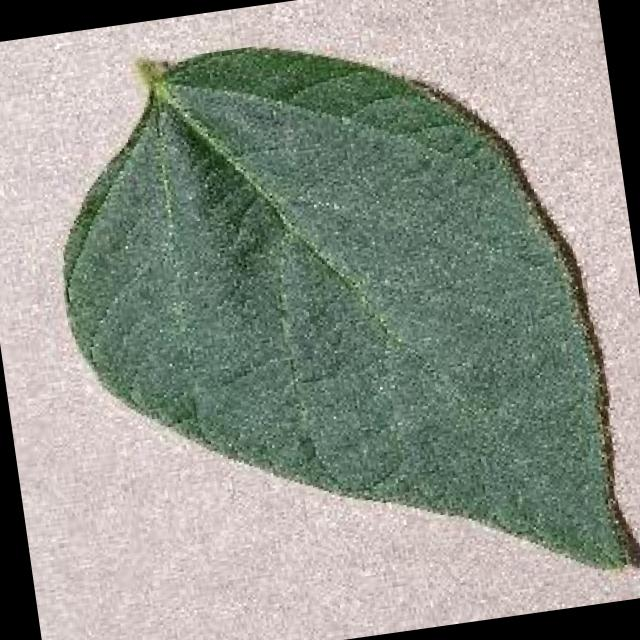healthy: (63, 51, 630, 567)
